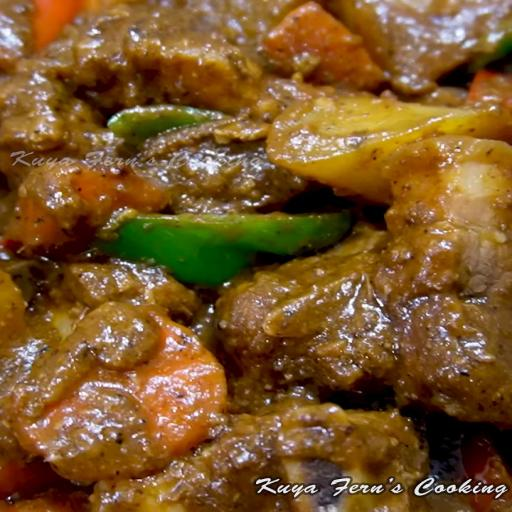pork caldereta: (0, 0, 511, 469)
